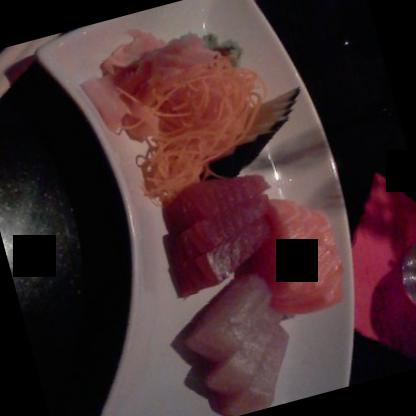salmon: (242, 189, 356, 323)
tuna: (147, 164, 288, 298)
